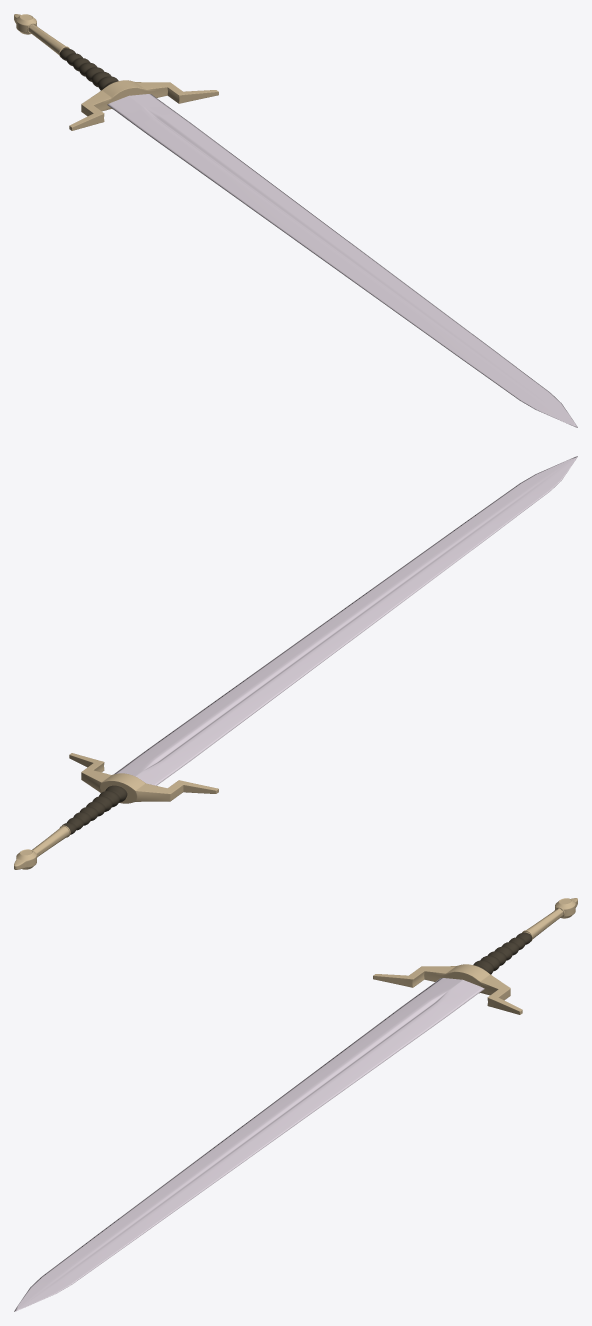
The model's file is Sword.fbx.
3 views of the same model, one above another, from view 1: azimuth 30°, elevation 25°; view 2: azimuth 150°, elevation 25°; view 3: azimuth 330°, elevation 25° (orthographic).
Visible parts, largest first — view 1: Blade, Guard, Handle; view 2: Blade, Guard, Handle; view 3: Blade, Guard, Handle.
Part boxes in pixels (left/top/right/bottom): Blade: left=107, top=94, right=577, bottom=427; Guard: left=69, top=80, right=218, bottom=130; Handle: left=59, top=48, right=118, bottom=90; Blade: left=113, top=456, right=577, bottom=785; Guard: left=69, top=753, right=218, bottom=803; Handle: left=62, top=785, right=127, bottom=834; Blade: left=14, top=978, right=484, bottom=1311; Guard: left=373, top=964, right=522, bottom=1014; Handle: left=473, top=932, right=532, bottom=974.
Bounding box in the file's own units: 1660 × 229 × 11005.
